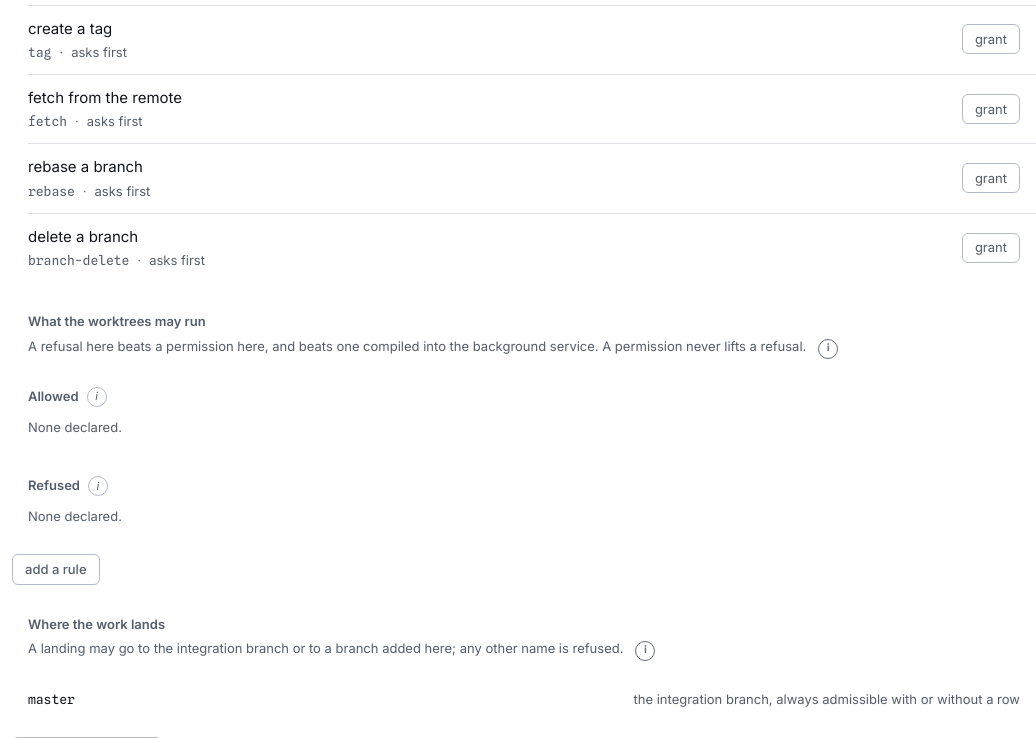
it: what the worktrees may run › previews what the núcleo will store for a prefix somebody is typing
This screenshot has width=1036, height=738.
(page scrolled)
Click the button "add a rule". click: [56, 569]
box: x1=12 y1=554 x2=100 y2=585
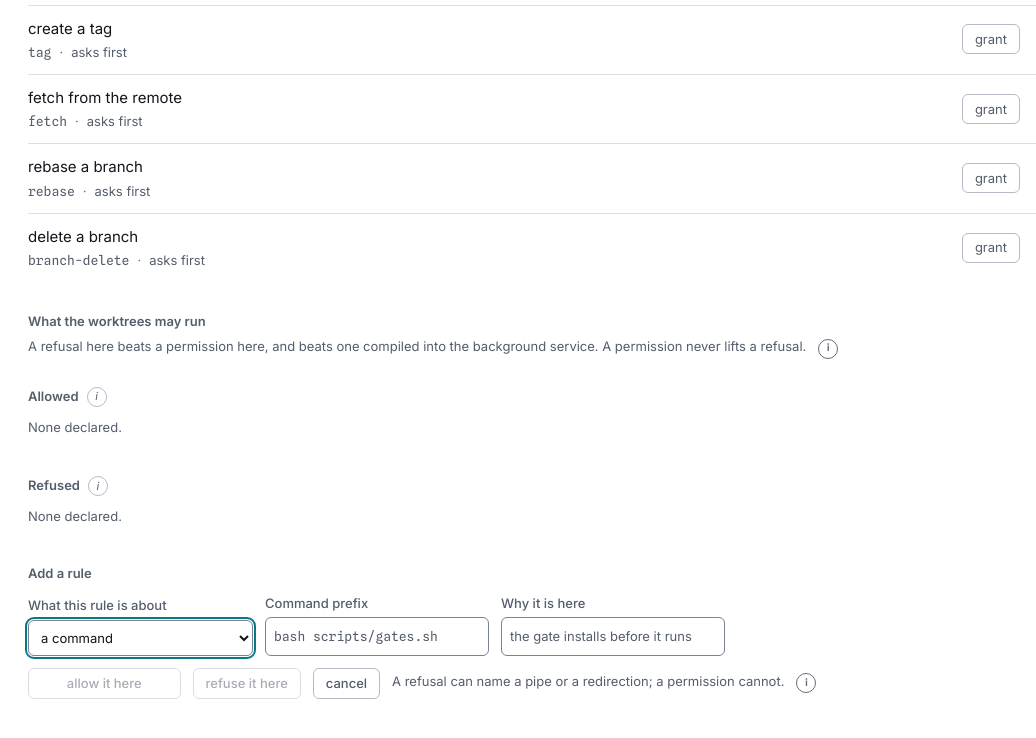
Type "Remove-Item  -Recurse" into the field labelled "Command prefix". click: [377, 636]
box: x1=265 y1=617 x2=489 y2=656
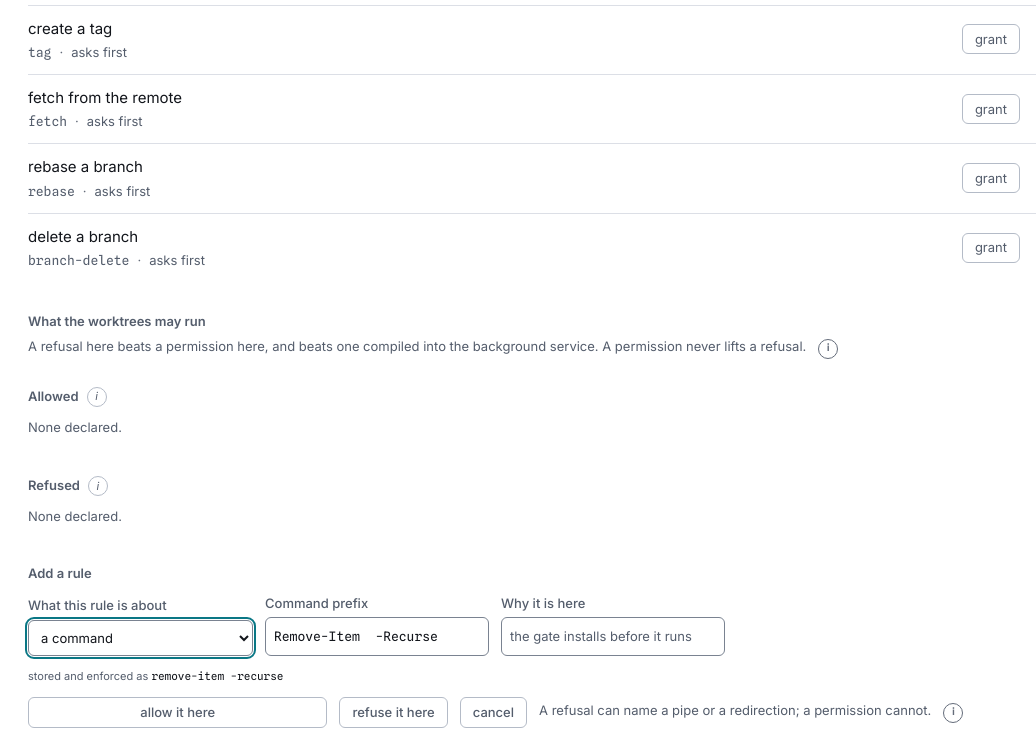
Now the text "stored and enforced as remove-item -recurse" is shown, box x1=28 y1=668 x2=283 y2=682
